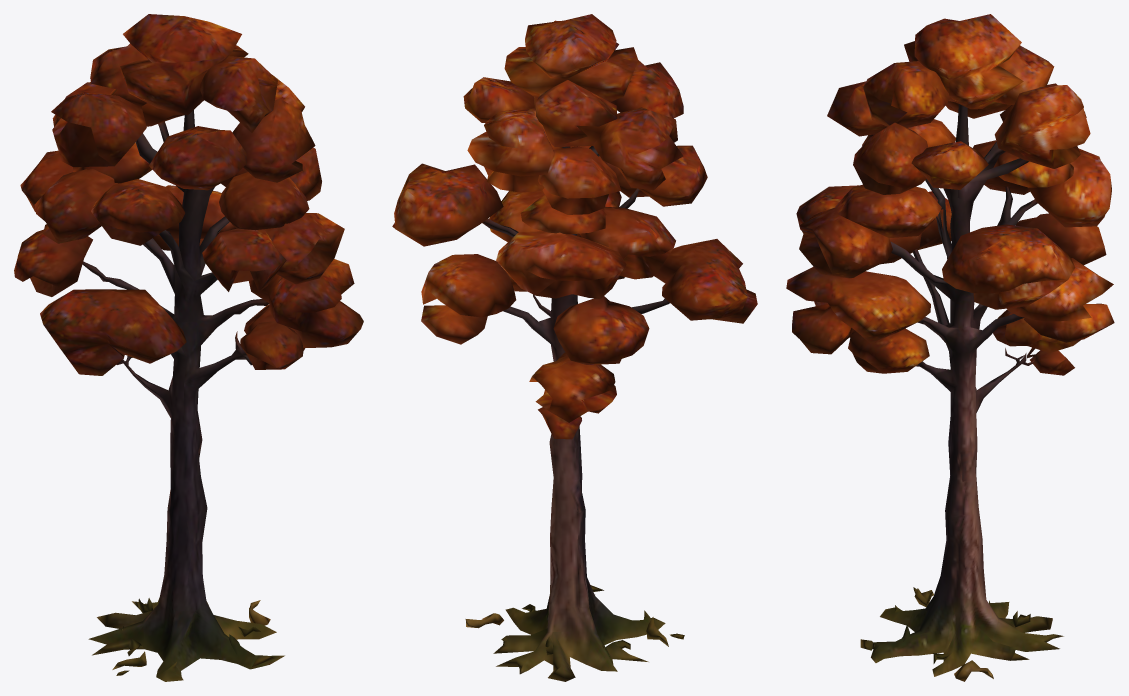
File: autumn_tree.glb
3 views of the same model, side by side, from view 1: azimuth 30°, elevation 25°; view 2: azimuth 150°, elevation 25°; view 3: azimuth 270°, elevation 25° (orthographic).
Parts seen in each view (by area): view 1: tripo_149e4692_ba97_48a0_83f7_05e4ba37051e; view 2: tripo_149e4692_ba97_48a0_83f7_05e4ba37051e; view 3: tripo_149e4692_ba97_48a0_83f7_05e4ba37051e.
Part boxes in pixels (bbox=[...]): tripo_149e4692_ba97_48a0_83f7_05e4ba37051e: bbox=[14, 14, 363, 681]; tripo_149e4692_ba97_48a0_83f7_05e4ba37051e: bbox=[392, 14, 757, 681]; tripo_149e4692_ba97_48a0_83f7_05e4ba37051e: bbox=[786, 14, 1114, 681].
Size of the model in its own units: 4.65 by 9 by 4.32.
1 material, 1 textured.
